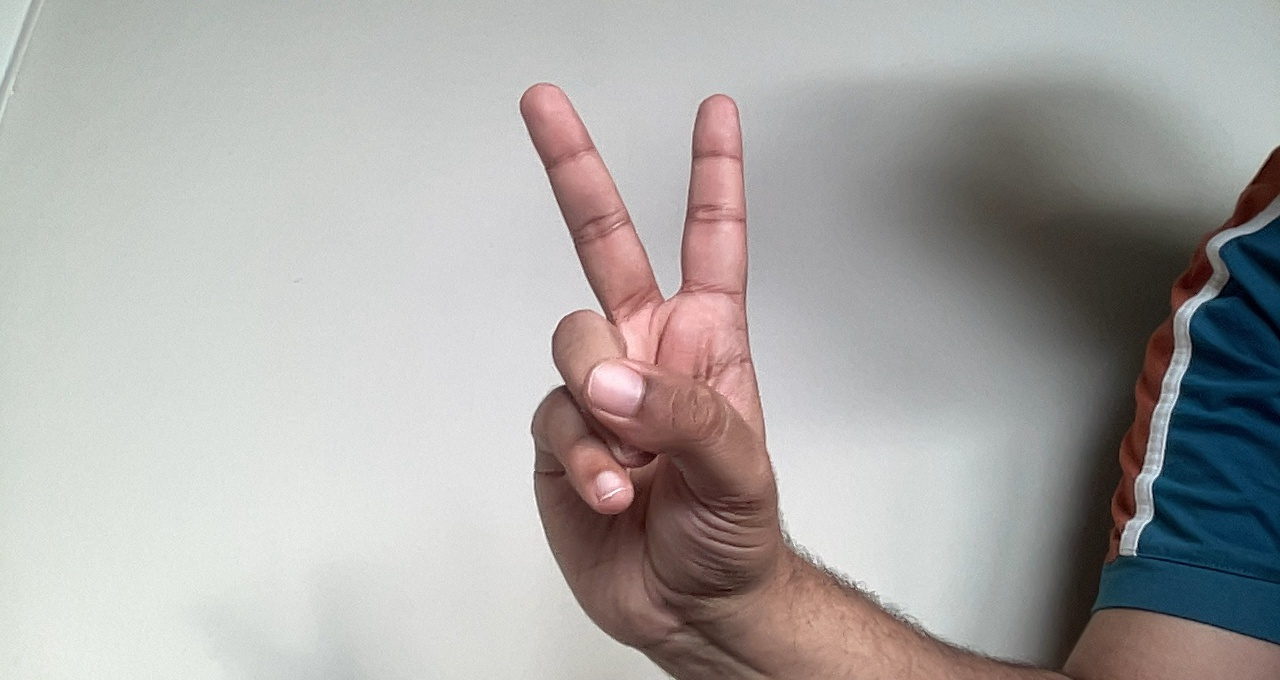peace sign: (486, 63, 808, 633)
